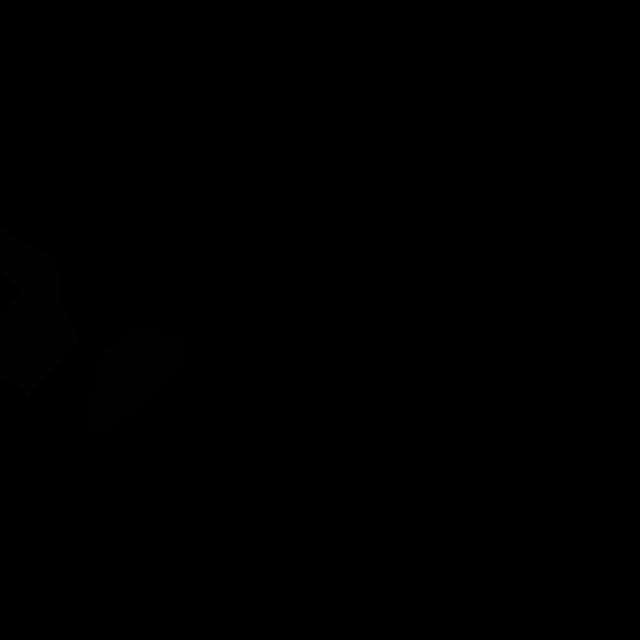cardboard: (0, 275, 78, 401), (0, 228, 65, 295)
rigid_plastic: (86, 324, 184, 435)
